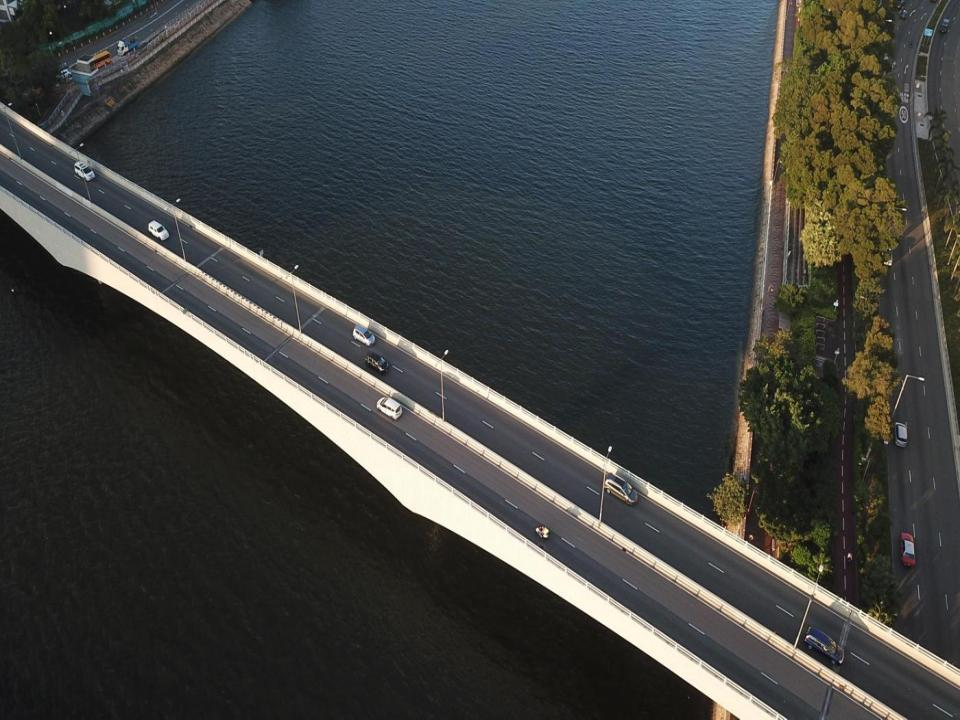bus: (85, 50, 111, 72)
car: (804, 626, 844, 665), (603, 472, 638, 506), (900, 532, 916, 567), (376, 397, 402, 418), (353, 324, 375, 346), (147, 219, 169, 240), (894, 422, 907, 447), (881, 239, 893, 266), (56, 68, 72, 81), (939, 18, 949, 33), (896, 0, 904, 9), (900, 10, 907, 19)
truck: (116, 34, 138, 56)
van: (365, 350, 389, 375), (73, 160, 95, 181)
